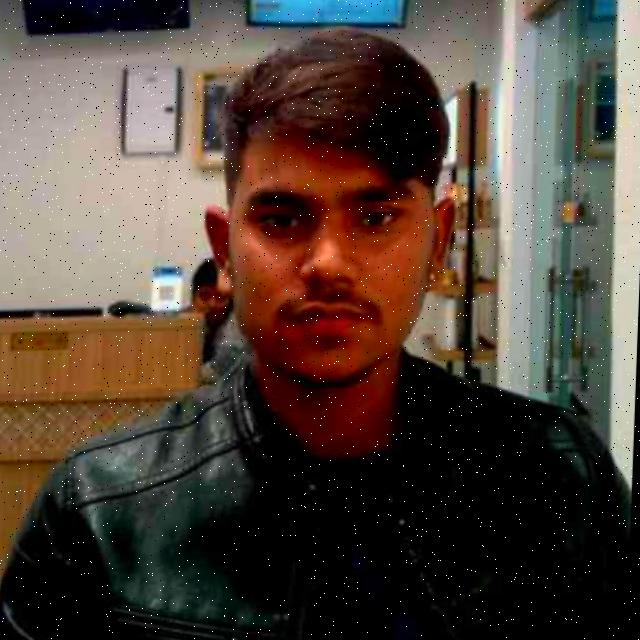puffy_eyes: (260, 214, 319, 249), (345, 227, 408, 248)
